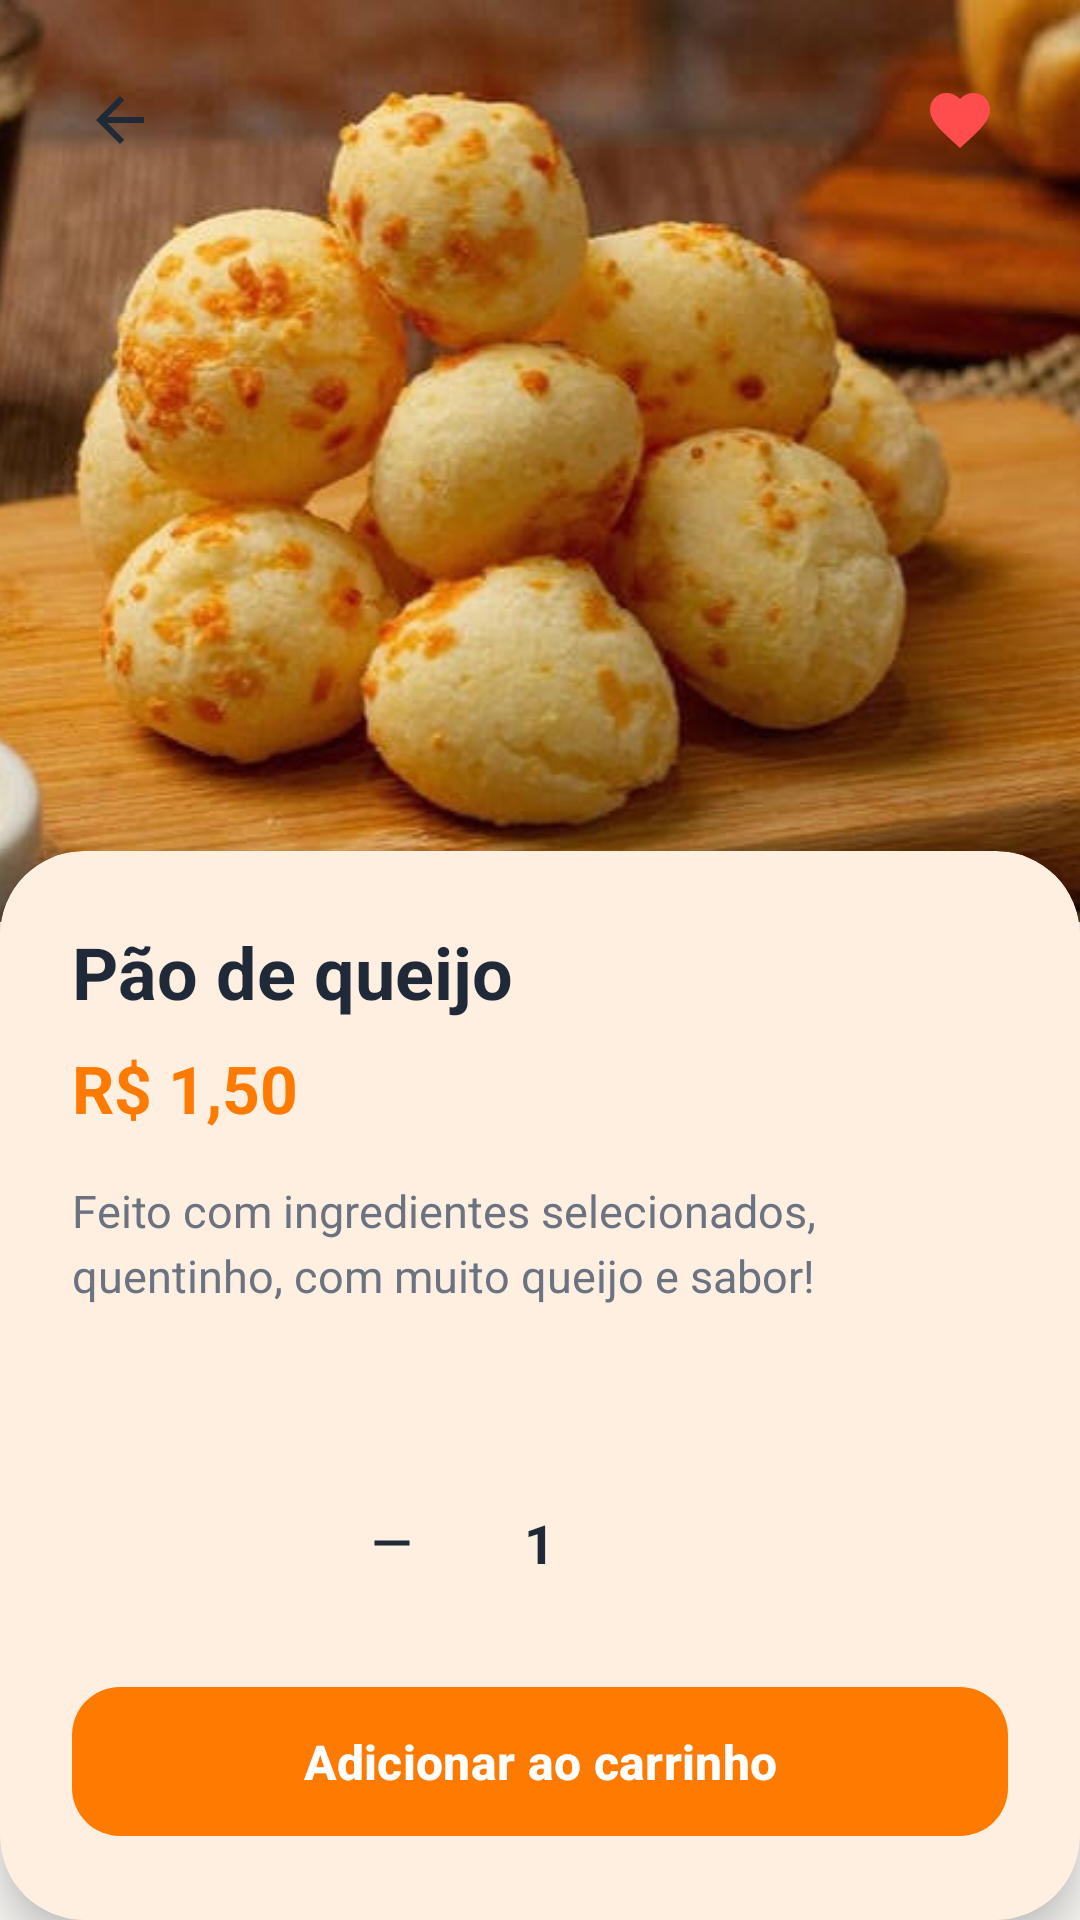

Point at icon controls on the screen. Image size 1080px x 1920px, points as (x,y).
minus: (392,1543)
